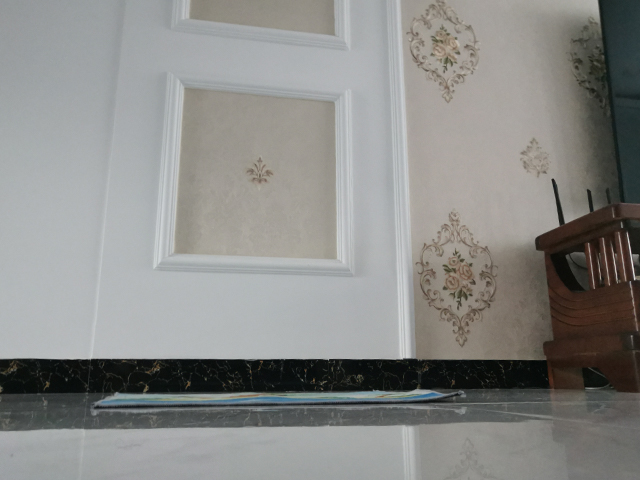cabinet: (533, 200, 640, 396)
carpet: (92, 386, 464, 410)
